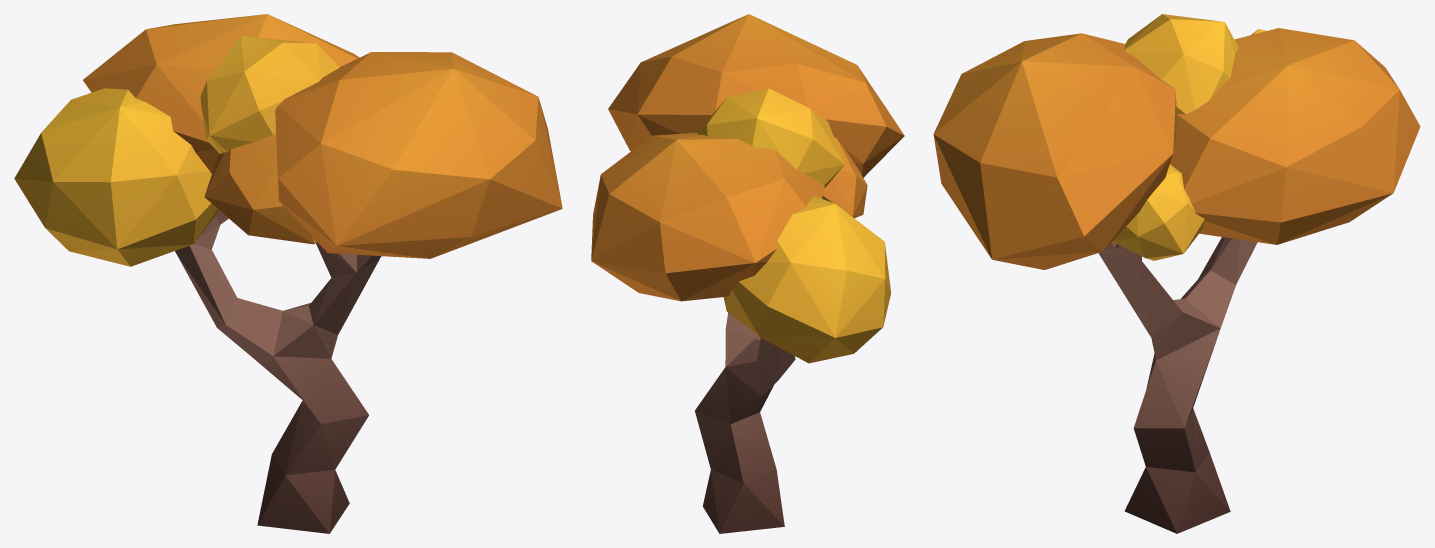
The model's file is AutumnTree2.fbx.
3 views of the same model, side by side, from view 1: azimuth 30°, elevation 25°; view 2: azimuth 150°, elevation 25°; view 3: azimuth 270°, elevation 25° (orthographic). The views are drawn at different scales.
Visible parts, largest first — view 1: AutumnTree2; view 2: AutumnTree2; view 3: AutumnTree2.
Part boxes in pixels (x1,y1,x2,y2): AutumnTree2: (14, 14, 562, 533); AutumnTree2: (591, 14, 904, 533); AutumnTree2: (933, 14, 1420, 533).
Size of the model in its own units: 404 by 463 by 421.
